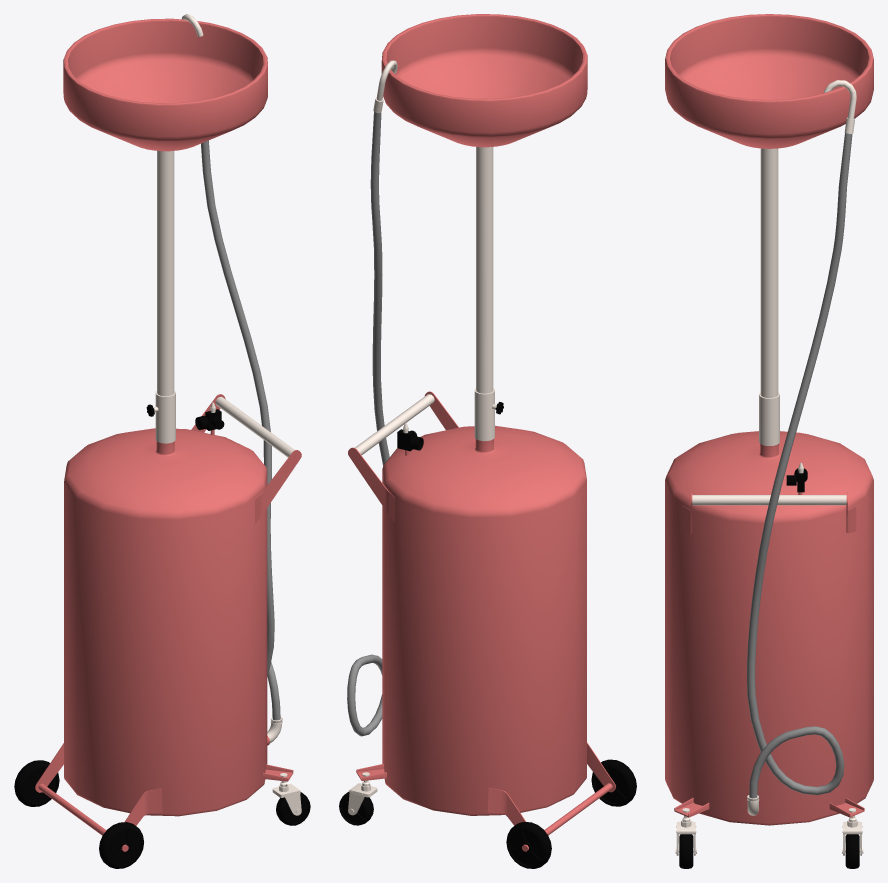
The model's file is FBX_OilDrainer.fbx.
The picture shows the model from 3 angles, left to right: view 1: azimuth 30°, elevation 25°; view 2: azimuth 150°, elevation 25°; view 3: azimuth 270°, elevation 25°; orthographic projection.
Visible parts, largest first — view 1: SM_OilDrainer_RedMetal, SM_OilDrainer_Steel, SM_OilDrainer_Rubber, SM_OilDrainer_Plastic; view 2: SM_OilDrainer_RedMetal, SM_OilDrainer_Steel, SM_OilDrainer_Plastic, SM_OilDrainer_Rubber; view 3: SM_OilDrainer_RedMetal, SM_OilDrainer_Steel, SM_OilDrainer_Rubber, SM_OilDrainer_Plastic.
Part boxes in pixels (left/top/right/bottom): SM_OilDrainer_RedMetal: left=35, top=18, right=301, bottom=851; SM_OilDrainer_Steel: left=153, top=14, right=301, bottom=815; SM_OilDrainer_Rubber: left=201, top=140, right=280, bottom=720; SM_OilDrainer_Plastic: left=14, top=404, right=310, bottom=868; SM_OilDrainer_RedMetal: left=348, top=14, right=615, bottom=851; SM_OilDrainer_Steel: left=348, top=60, right=496, bottom=815; SM_OilDrainer_Plastic: left=339, top=402, right=636, bottom=868; SM_OilDrainer_Rubber: left=347, top=112, right=389, bottom=736; SM_OilDrainer_RedMetal: left=665, top=14, right=873, bottom=825; SM_OilDrainer_Steel: left=675, top=80, right=863, bottom=855; SM_OilDrainer_Rubber: left=747, top=133, right=852, bottom=798; SM_OilDrainer_Plastic: left=679, top=468, right=859, bottom=868.
Size of the model in its own units: 0.4856 by 1.63 by 0.4.
